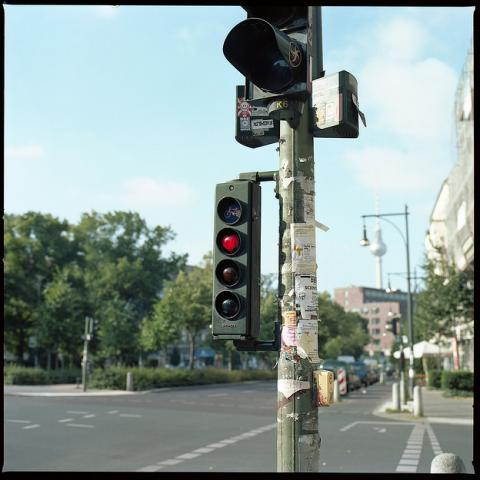car: (320, 359, 348, 378), (350, 360, 368, 386), (347, 364, 363, 393), (368, 368, 380, 386), (383, 366, 397, 377)
